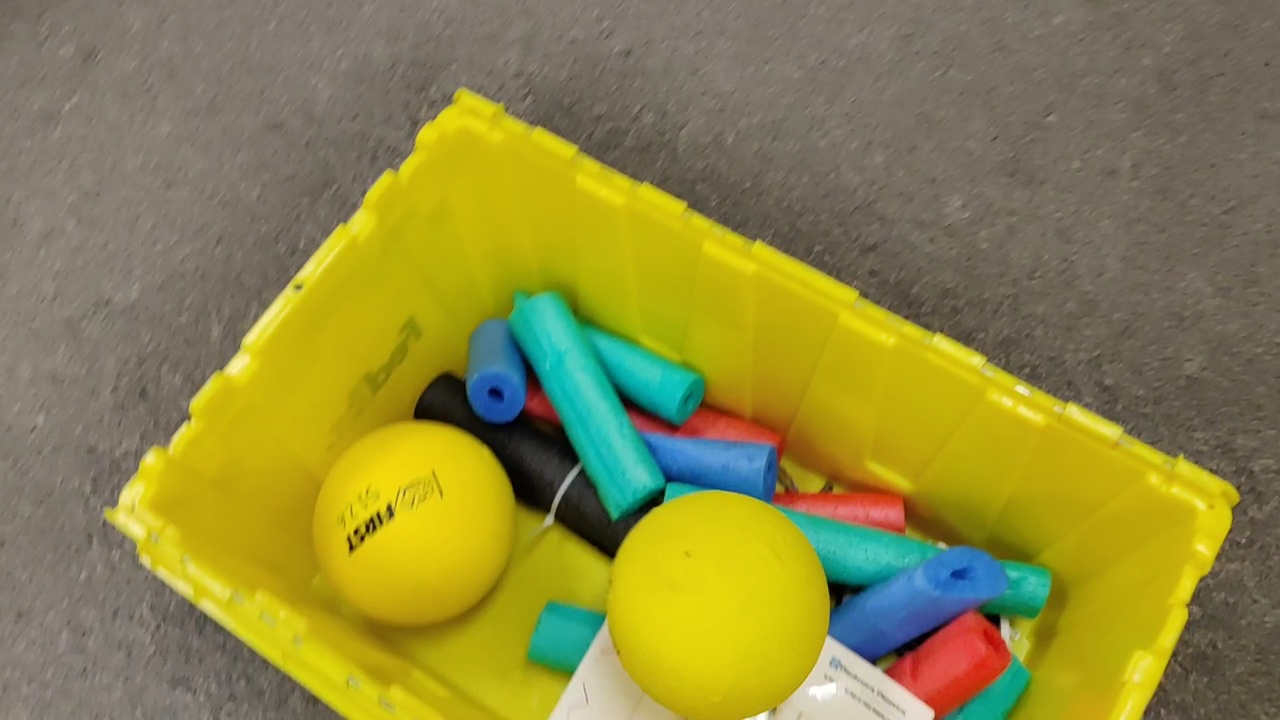Ball: (606, 490, 834, 717), (311, 423, 515, 625)
